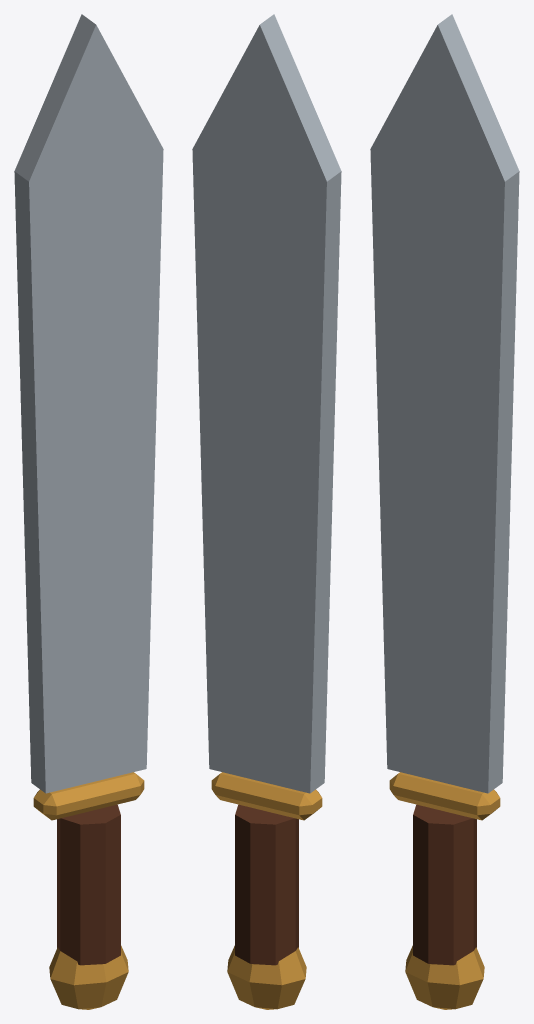
File: lucius-vorenus-gladius.glb
3 views of the same model, side by side, from view 1: azimuth 30°, elevation 25°; view 2: azimuth 150°, elevation 25°; view 3: azimuth 330°, elevation 25° (orthographic).
Visible parts, largest first — view 1: Gladius_Blade, Gladius_Grip, Gladius_Pommel, Gladius_Guard; view 2: Gladius_Blade, Gladius_Grip, Gladius_Pommel, Gladius_Guard; view 3: Gladius_Blade, Gladius_Grip, Gladius_Pommel, Gladius_Guard.
Boxes of the visible parts, <box> form: Gladius_Blade: <box>14,14,163,793</box>; Gladius_Grip: <box>57,804,120,965</box>; Gladius_Pommel: <box>49,945,128,1009</box>; Gladius_Guard: <box>33,772,144,820</box>; Gladius_Blade: <box>192,14,341,793</box>; Gladius_Grip: <box>235,804,298,965</box>; Gladius_Pommel: <box>227,945,306,1009</box>; Gladius_Guard: <box>211,772,322,820</box>; Gladius_Blade: <box>370,14,519,793</box>; Gladius_Grip: <box>413,804,476,965</box>; Gladius_Pommel: <box>405,945,484,1009</box>; Gladius_Guard: <box>389,772,500,820</box>.
Size of the model in its own units: 8 by 56.3 by 3.6.
